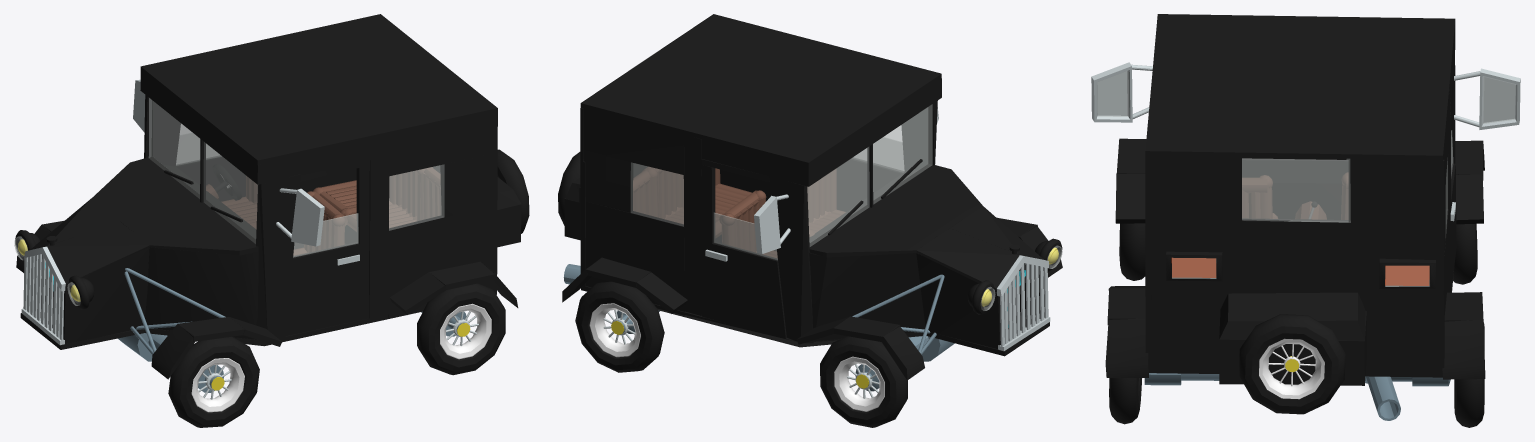
File: car-prewar-hotrod-donor.glb
The picture shows the model from 3 angles, left to right: view 1: azimuth 30°, elevation 25°; view 2: azimuth 150°, elevation 25°; view 3: azimuth 270°, elevation 25°; orthographic projection. The views are drawn at different scales.
Parts seen in each view (by area): view 1: group1643766101; view 2: group1643766101; view 3: group1643766101.
Part boxes in pixels (box(x1,y1,x2,y2)): group1643766101: box(14, 14, 529, 427); group1643766101: box(558, 14, 1062, 427); group1643766101: box(1091, 14, 1520, 427).
Size of the model in its own units: 4.6 by 2.37 by 3.1.
